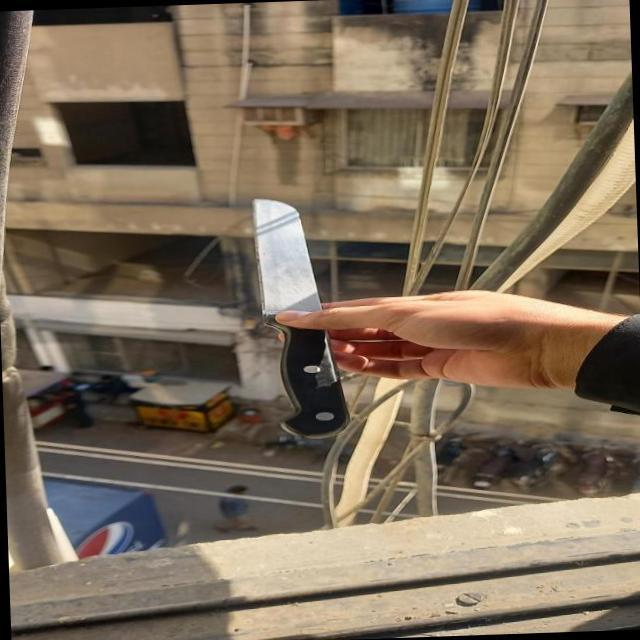Knife: (224, 190, 374, 443)
